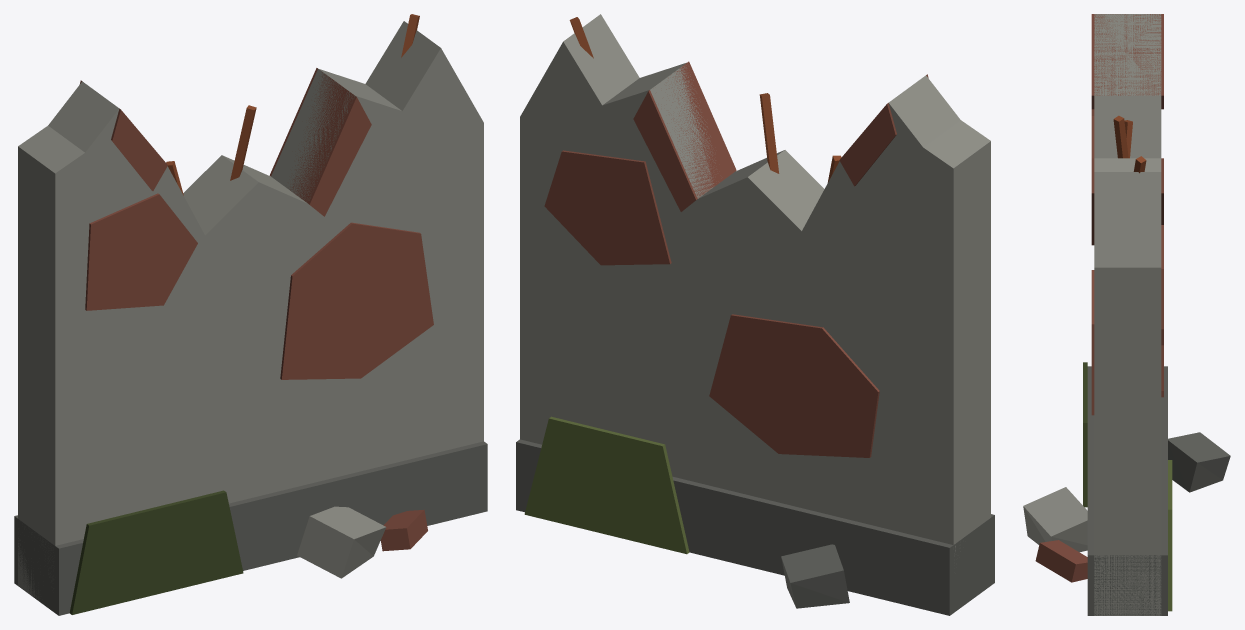
File: wall_segment.glb
The picture shows the model from 3 angles, left to right: view 1: azimuth 30°, elevation 25°; view 2: azimuth 150°, elevation 25°; view 3: azimuth 270°, elevation 25°; orthographic projection. The views are drawn at different scales.
Parts seen in each view (by area): view 1: wall_segment_mesh; view 2: wall_segment_mesh; view 3: wall_segment_mesh.
Boxes of the visible parts, box(x1,y1,x2,y2) form: wall_segment_mesh: box(14, 14, 487, 615); wall_segment_mesh: box(516, 14, 994, 615); wall_segment_mesh: box(1023, 14, 1230, 615).
Bounding box in the file's own units: 2 × 2.18 × 0.9291.
